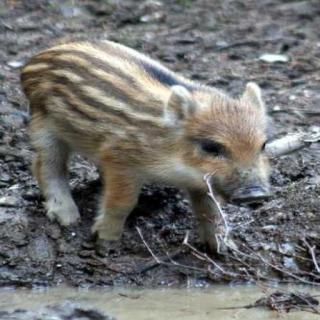Pig: (11, 0, 277, 241)
